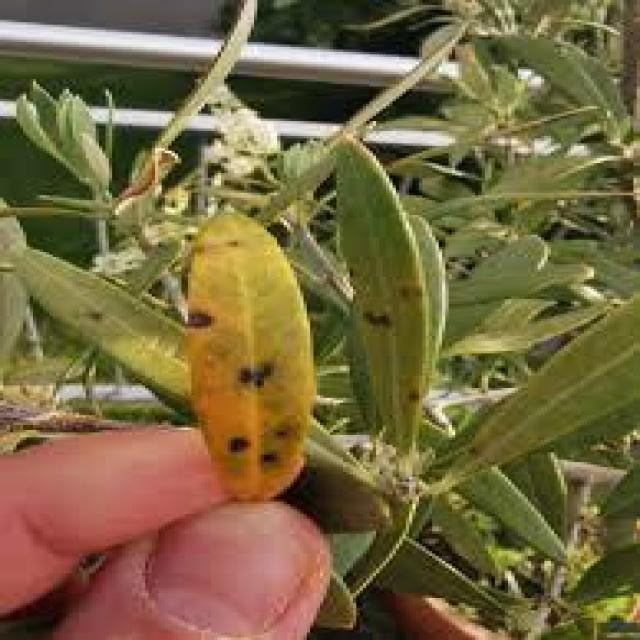Peacock Eye: (185, 213, 313, 499), (340, 138, 442, 469), (7, 242, 188, 408)
